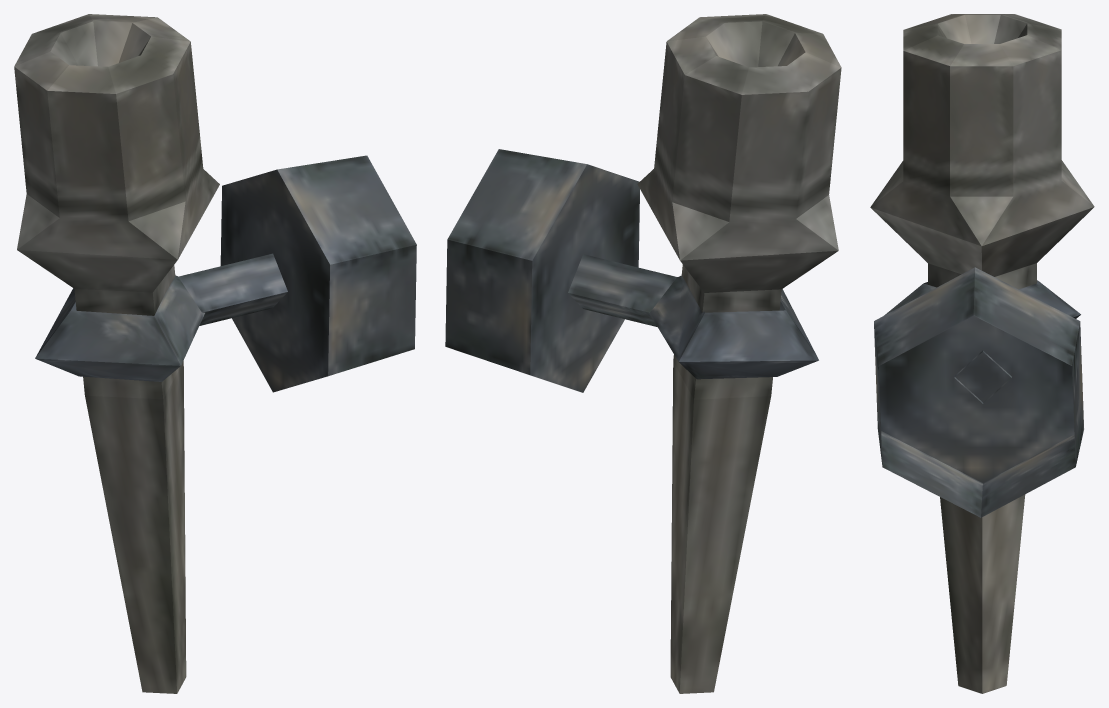
The model's file is torch069.obj.
3 views of the same model, side by side, from view 1: azimuth 30°, elevation 25°; view 2: azimuth 150°, elevation 25°; view 3: azimuth 270°, elevation 25° (orthographic). The views are drawn at different scales.
Visible parts, largest first — view 1: torch069; view 2: torch069; view 3: torch069.
Part boxes in pixels (x1=…): torch069: x1=14, y1=14, x2=416, y2=693; torch069: x1=445, y1=14, x2=841, y2=693; torch069: x1=870, y1=14, x2=1094, y2=693.
Size of the model in its own units: 2.16 by 3.96 by 1.27.
